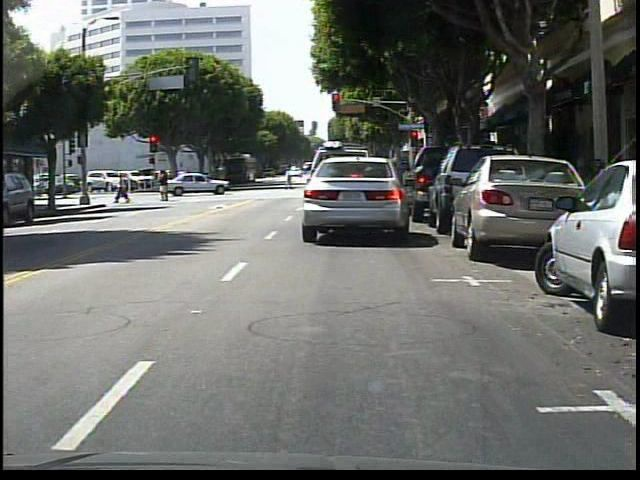person: (114, 173, 131, 205), (160, 170, 173, 202), (285, 166, 294, 190)
